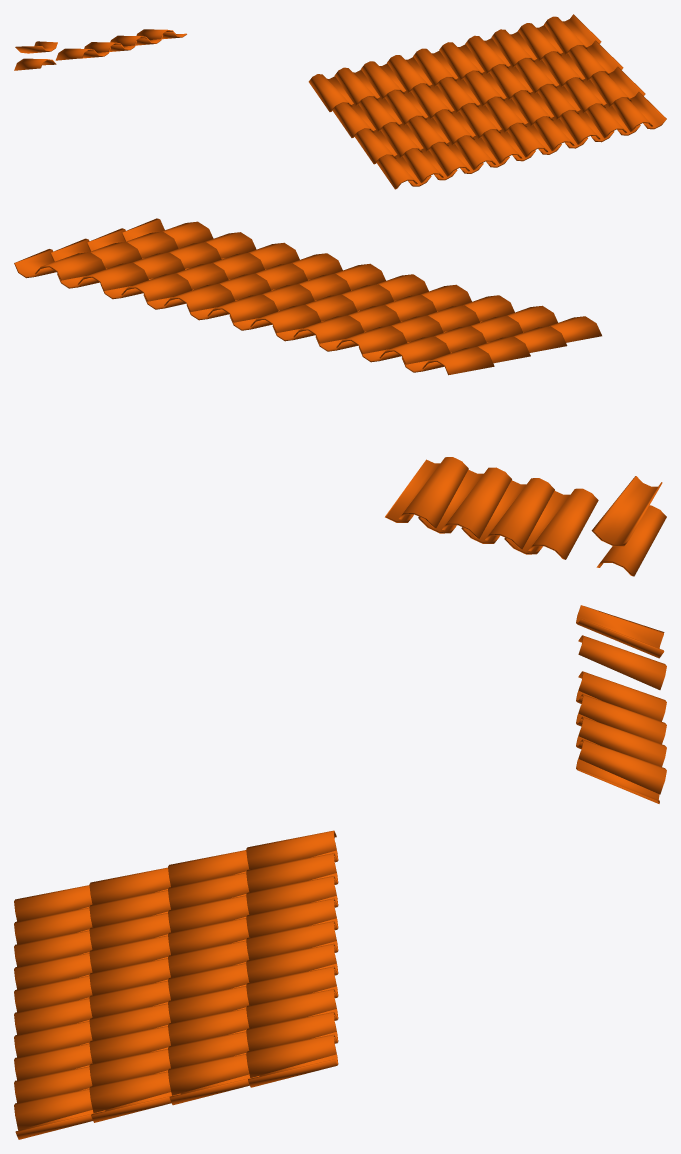
The model's file is telhas_barro.glb.
3 renders of one model, top to bottom at view 1: azimuth 30°, elevation 25°; view 2: azimuth 150°, elevation 25°; view 3: azimuth 270°, elevation 25°, orthographic. The views are drawn at different scales.
Visible parts, largest first — view 1: Cylinder.004; view 2: Cylinder.004; view 3: Cylinder.004.
Part boxes in pixels (bbox=[...]): Cylinder.004: bbox=[14, 14, 666, 189]; Cylinder.004: bbox=[14, 218, 666, 576]; Cylinder.004: bbox=[14, 605, 666, 1139].
Size of the model in its own units: 0.9834 by 0.1564 by 0.6643.
